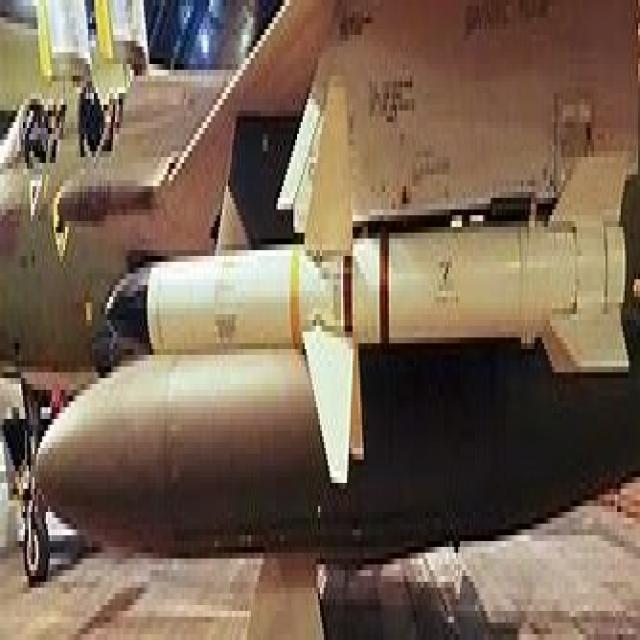missile: (113, 76, 638, 496)
